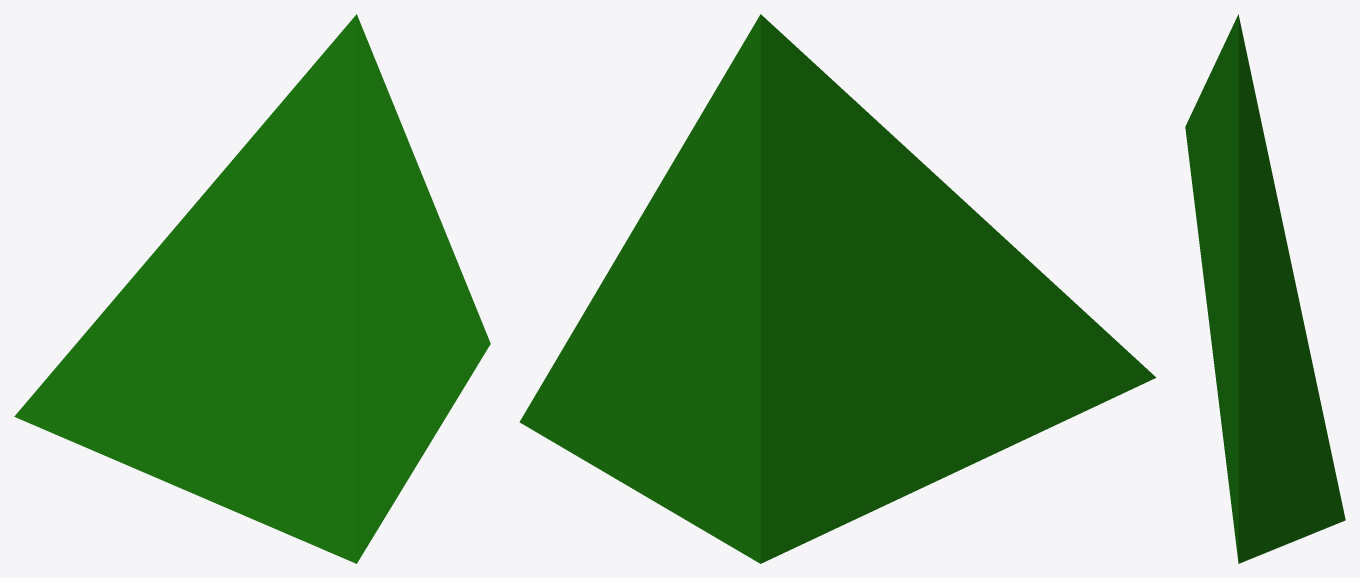
The model's file is world_2.glb.
The picture shows the model from 3 angles, left to right: view 1: azimuth 30°, elevation 25°; view 2: azimuth 150°, elevation 25°; view 3: azimuth 270°, elevation 25°; orthographic projection.
Parts seen in each view (by area): view 1: world; view 2: world; view 3: world.
Boxes of the visible parts, <box> form: world: <box>14,14,490,563</box>; world: <box>519,14,1156,563</box>; world: <box>1185,14,1345,563</box>.
Bounding box in the file's own units: 60.33 × 56.93 × 15.06.
1 material, 1 textured.
